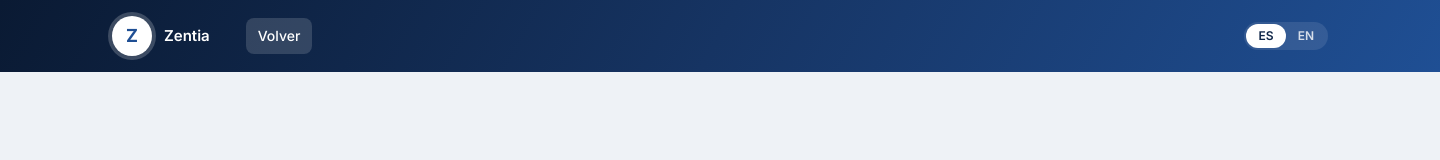
Scenario: PrivateLayout › applies the language change and persists it
Click the button with aria-label "Inglés".
click(1306, 36)  # box [1286, 24, 1326, 48]
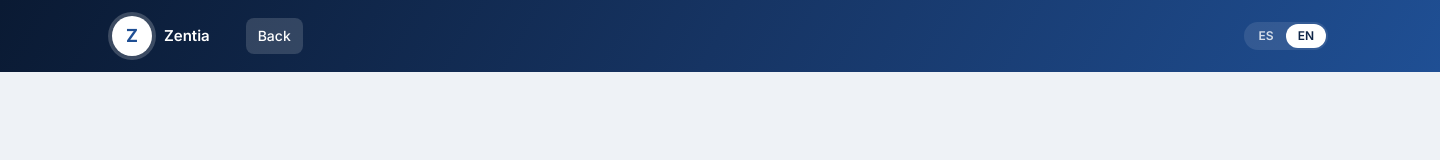
Result: the navigation bar named "Main navigation" is shown at [246, 18, 303, 54]
